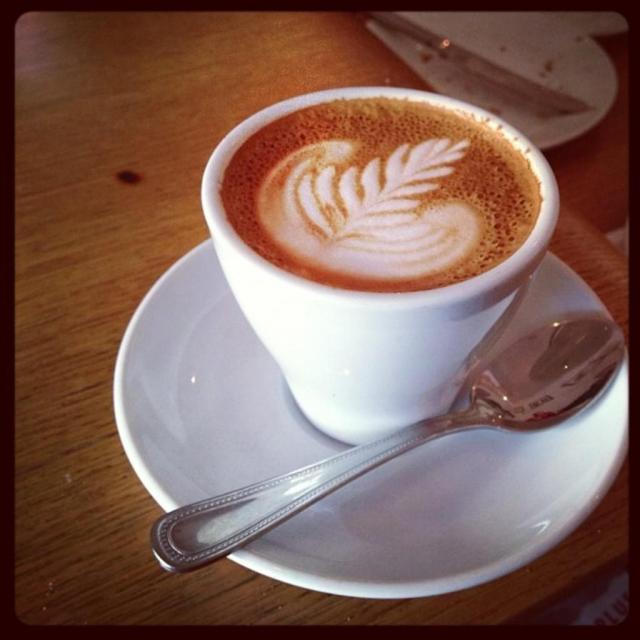cup-handle: (199, 87, 559, 447)
